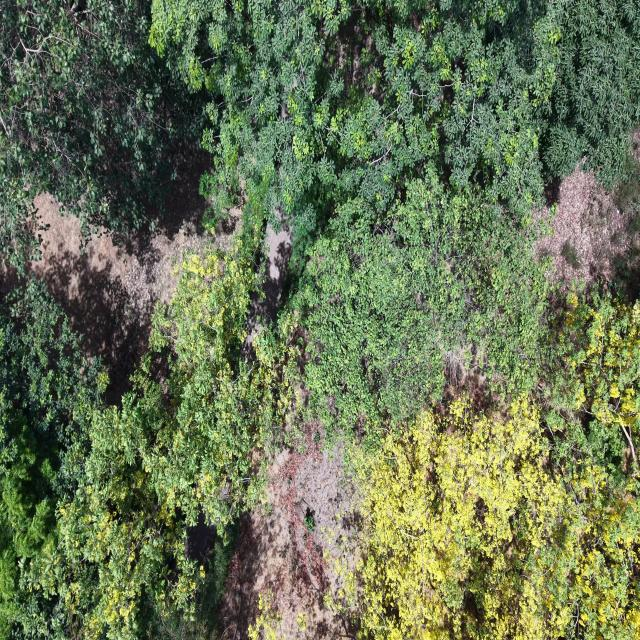DRY_AREA: (26, 152, 239, 403), (27, 185, 240, 403), (28, 182, 239, 402), (30, 185, 238, 402), (28, 194, 239, 403), (28, 194, 232, 402), (219, 423, 355, 639), (221, 425, 354, 639), (29, 194, 212, 304), (534, 130, 639, 305), (536, 131, 639, 297), (536, 171, 633, 286), (537, 171, 628, 283), (247, 223, 291, 344), (260, 224, 291, 319), (267, 224, 291, 281)
VEGETATION_TREE: (0, 0, 639, 639), (7, 200, 296, 639), (150, 0, 639, 258), (150, 0, 560, 258), (341, 294, 639, 639), (348, 398, 639, 639), (292, 171, 547, 429), (0, 0, 203, 269), (351, 399, 566, 639), (149, 199, 296, 533), (38, 370, 203, 639), (0, 280, 106, 637), (541, 291, 639, 638), (543, 292, 639, 486), (541, 0, 639, 187)
